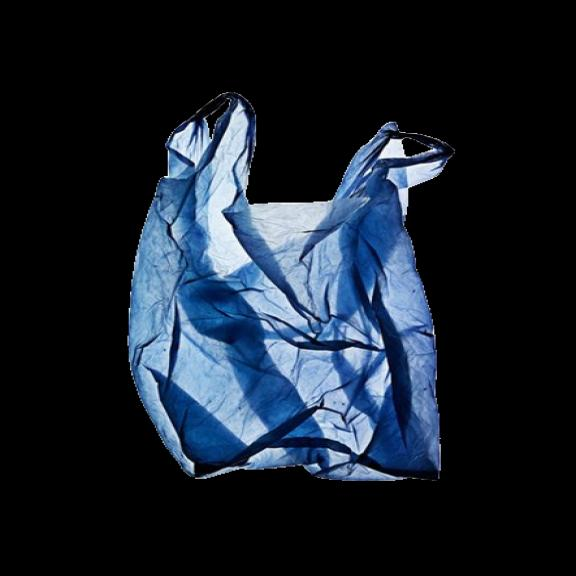Plastik: (113, 84, 480, 502)
